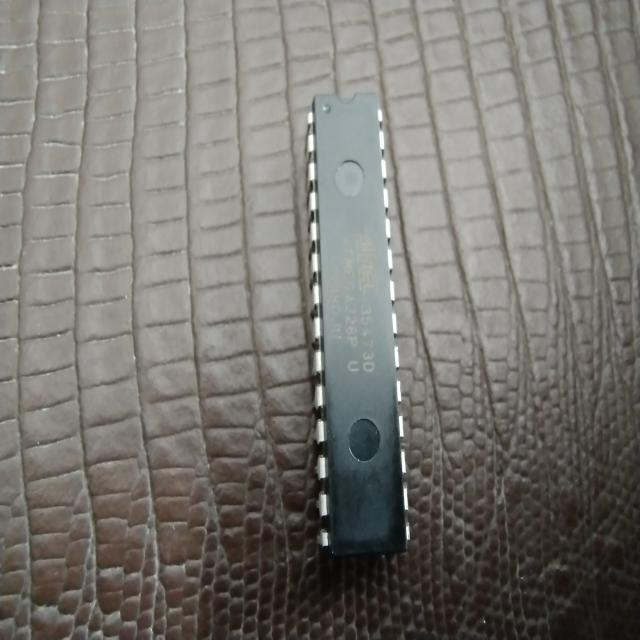atmega: (304, 90, 411, 560)
